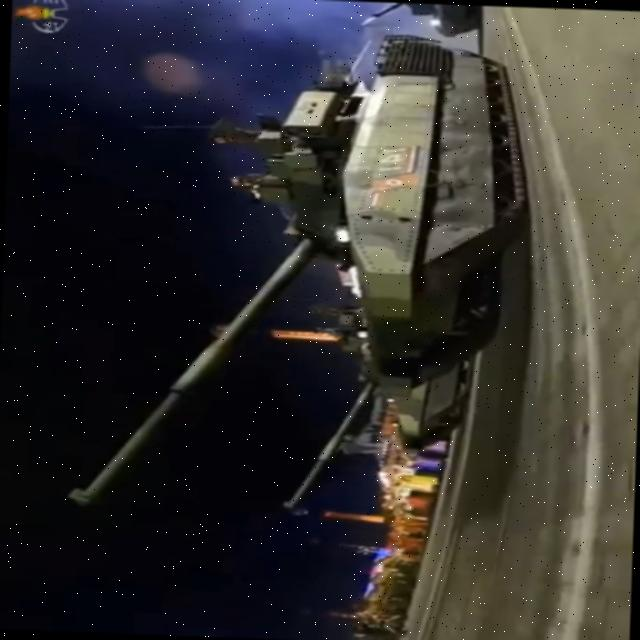north tank: (63, 27, 516, 546), (281, 295, 497, 532)
